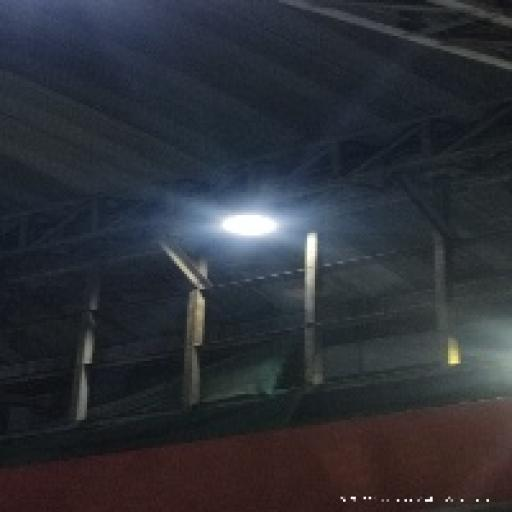Working: (202, 206, 294, 250)
